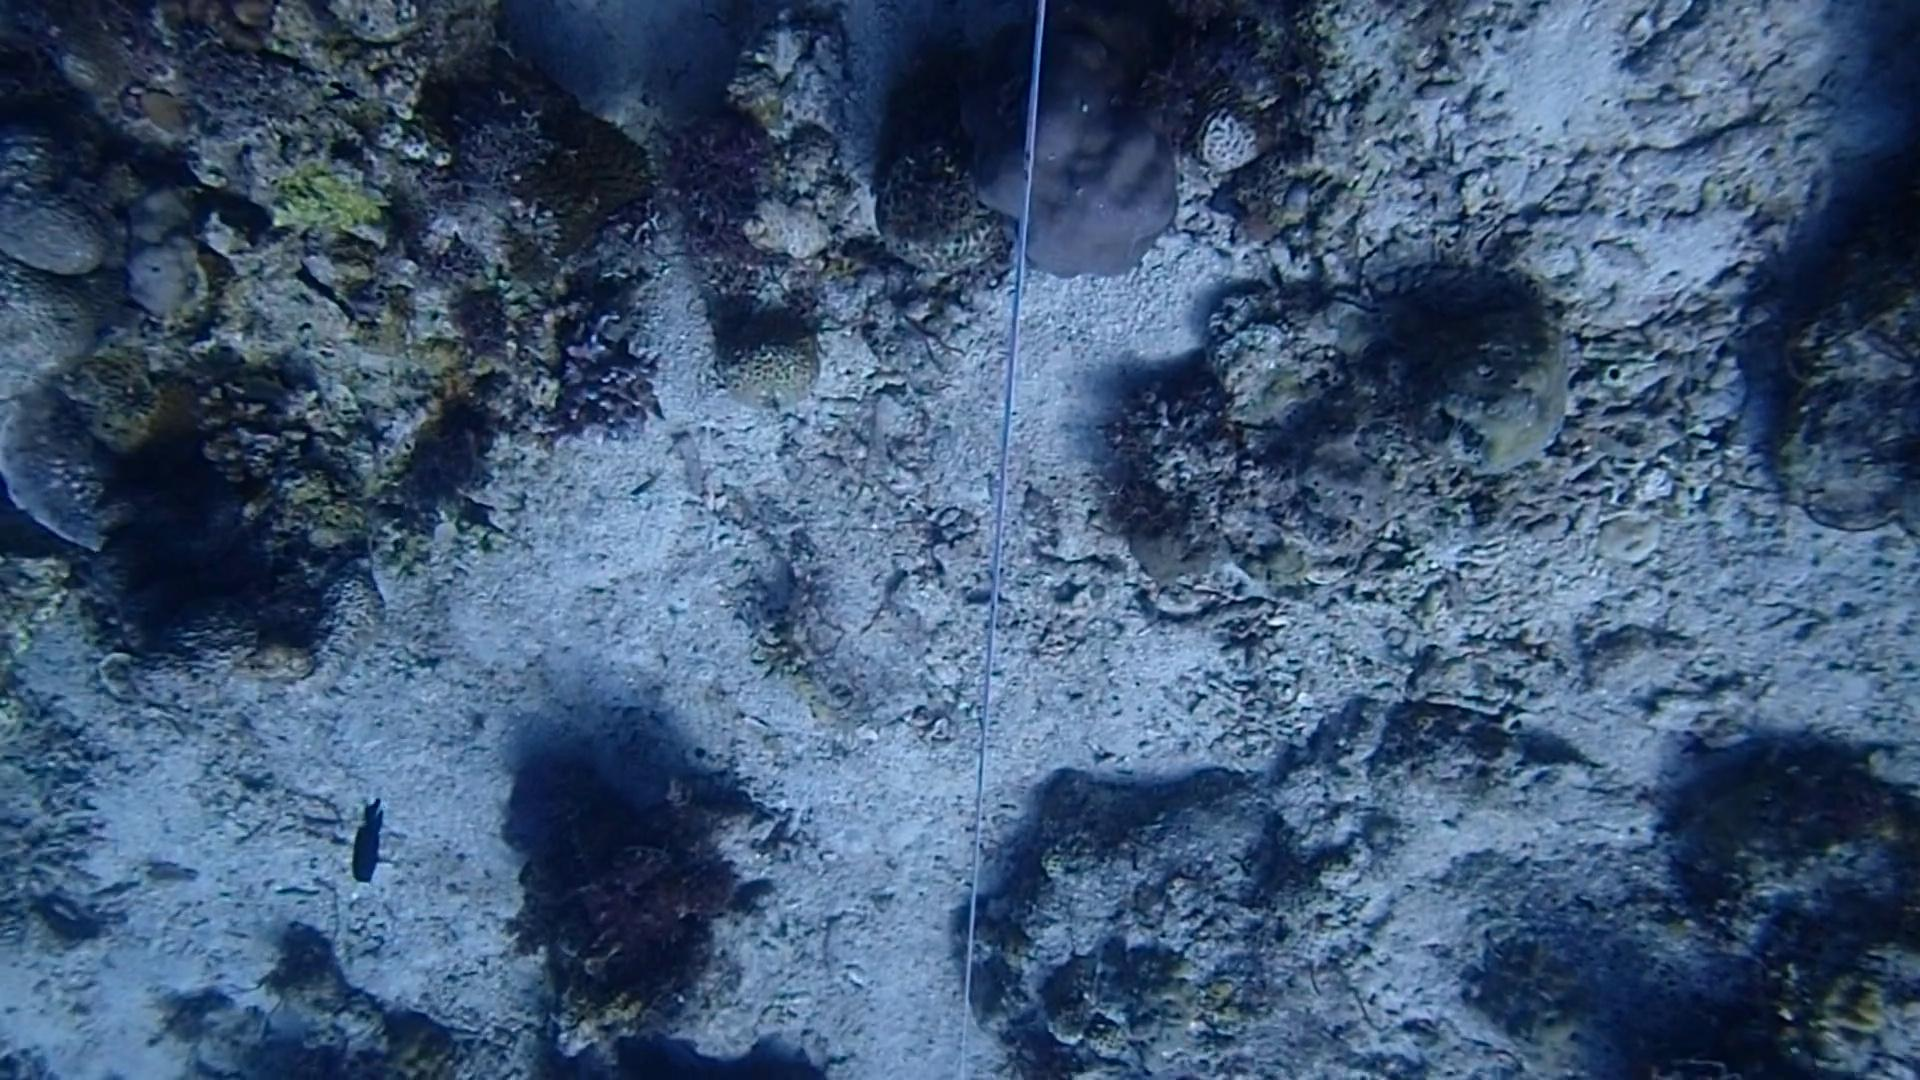Dark Fish: (340, 799, 398, 895)
